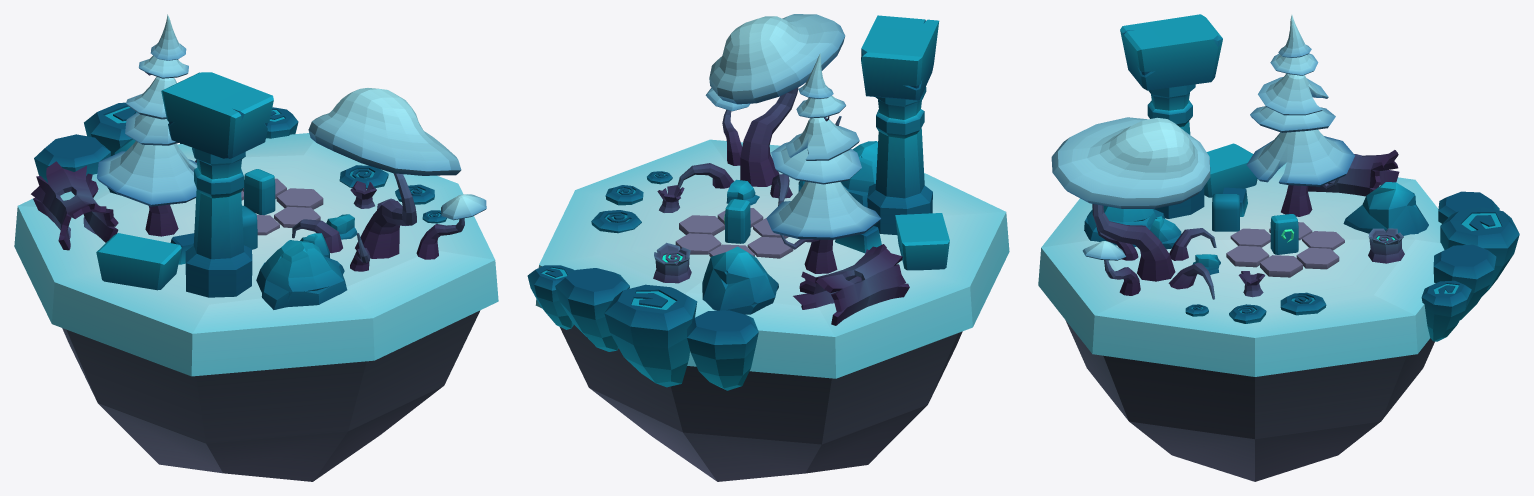
File: Island.fbx
3 views of the same model, side by side, from view 1: azimuth 30°, elevation 25°; view 2: azimuth 150°, elevation 25°; view 3: azimuth 270°, elevation 25° (orthographic). The views are drawn at different scales.
Visible parts, largest first — view 1: Island, Tree1, Pine, Column, Block1, Rock6, Stomp, Block, Rock4, Tile, Rock2, RitualStone (+5 smaller); view 2: Island, Tree1, Pine, Rock2, Column, Block1, Stomp, Rock4, Rock1, Rock5, Tile, Block (+9 smaller); view 3: Island, Tree1, Pine, Block1, Tile, Rock2, Rock1, Rock5, Column, Rock3, Stomp, Block (+8 smaller).
Part boxes in pixels (x1,y1,x2,y2): Island: [14, 133, 498, 481]; Tree1: [292, 88, 486, 271]; Pine: [97, 14, 197, 236]; Column: [185, 147, 252, 297]; Block1: [161, 72, 273, 158]; Rock6: [256, 240, 347, 309]; Stomp: [31, 161, 118, 250]; Block: [96, 233, 181, 290]; Rock4: [34, 134, 110, 182]; Tile: [241, 178, 323, 235]; Rock2: [84, 102, 136, 155]; RitualStone: [244, 169, 275, 215]; Island: [535, 139, 1009, 481]; Tree1: [677, 14, 845, 205]; Pine: [766, 53, 881, 273]; Rock2: [604, 284, 697, 387]; Column: [867, 87, 932, 234]; Block1: [861, 15, 939, 100]; Stomp: [793, 244, 909, 325]; Rock4: [687, 310, 758, 390]; Rock1: [702, 246, 778, 314]; Rock5: [555, 268, 629, 351]; Tile: [675, 208, 793, 258]; Block: [895, 213, 949, 270]; Island: [1038, 163, 1444, 481]; Tree1: [1051, 117, 1216, 299]; Pine: [1246, 15, 1355, 216]; Block1: [1120, 14, 1222, 90]; Tile: [1226, 222, 1344, 277]; Rock2: [1440, 207, 1519, 295]; Rock1: [1343, 182, 1428, 235]; Rock5: [1433, 244, 1496, 320]; Column: [1147, 84, 1204, 218]; Rock3: [1421, 280, 1471, 341]; Stomp: [1308, 150, 1399, 196]; Block: [1204, 143, 1257, 197].
Size of the model in its own units: 2932 by 3110 by 3256.
